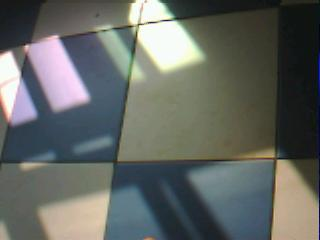oball: (143, 238, 156, 240)
